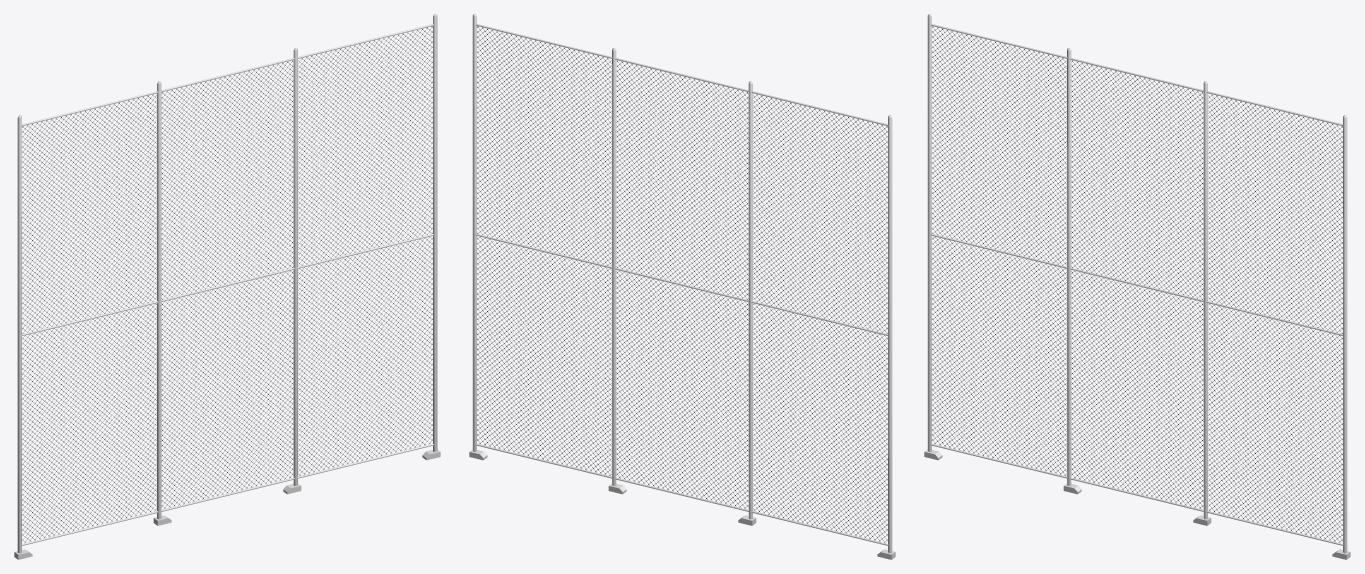
File: MetalFenceLarge.fbx
3 views of the same model, side by side, from view 1: azimuth 30°, elevation 25°; view 2: azimuth 150°, elevation 25°; view 3: azimuth 330°, elevation 25° (orthographic).
Visible parts, largest first — view 1: MetalFenceLarge.001, MetalFenceLarge, MetalFenceLarge.002, Cube; view 2: MetalFenceLarge.001, MetalFenceLarge, MetalFenceLarge.002, Cube; view 3: MetalFenceLarge.001, MetalFenceLarge, MetalFenceLarge.002, Cube.
Boxes of the visible parts, x1=… form: MetalFenceLarge.001: x1=22, y1=26, x2=432, y2=542; MetalFenceLarge: x1=17, y1=14, x2=437, y2=553; MetalFenceLarge.002: x1=21, y1=24, x2=434, y2=545; Cube: x1=14, y1=449, x2=440, y2=559; MetalFenceLarge.001: x1=477, y1=26, x2=887, y2=542; MetalFenceLarge: x1=472, y1=14, x2=892, y2=553; MetalFenceLarge.002: x1=475, y1=24, x2=888, y2=545; Cube: x1=469, y1=449, x2=895, y2=559; MetalFenceLarge.001: x1=932, y1=26, x2=1342, y2=542; MetalFenceLarge: x1=927, y1=14, x2=1347, y2=553; MetalFenceLarge.002: x1=930, y1=24, x2=1343, y2=545; Cube: x1=924, y1=449, x2=1350, y2=559.
Size of what is drawn, in the model's own units: 600 by 600 by 10.
1 material, 1 textured.
